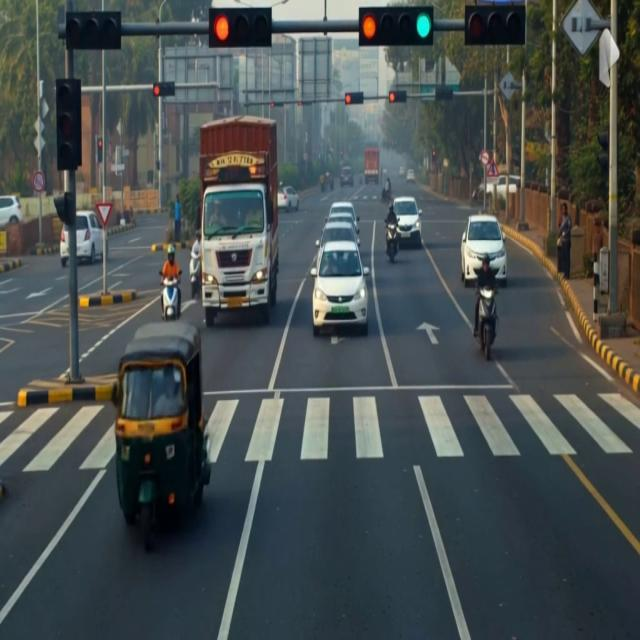car: (311, 240, 369, 335), (461, 215, 506, 286), (76, 211, 105, 263), (393, 197, 421, 247), (316, 221, 360, 247), (326, 201, 359, 229), (326, 212, 359, 234), (0, 196, 22, 226), (278, 186, 299, 211), (340, 167, 353, 186), (406, 169, 415, 183), (399, 167, 404, 176)
scooty: (477, 288, 497, 360), (161, 278, 178, 321), (190, 251, 201, 299), (386, 224, 397, 263), (381, 189, 391, 203)
traffic signal: (359, 6, 433, 47), (465, 5, 525, 46), (209, 8, 271, 47), (56, 79, 81, 171), (65, 12, 121, 50), (54, 192, 75, 227), (597, 131, 609, 174), (153, 82, 175, 97), (435, 86, 453, 101), (389, 90, 407, 103), (345, 92, 363, 104), (97, 136, 102, 163), (431, 149, 436, 166), (270, 102, 283, 108), (298, 101, 312, 106), (270, 102, 275, 108), (297, 102, 303, 106)
truck: (200, 116, 278, 327), (364, 147, 379, 183)
